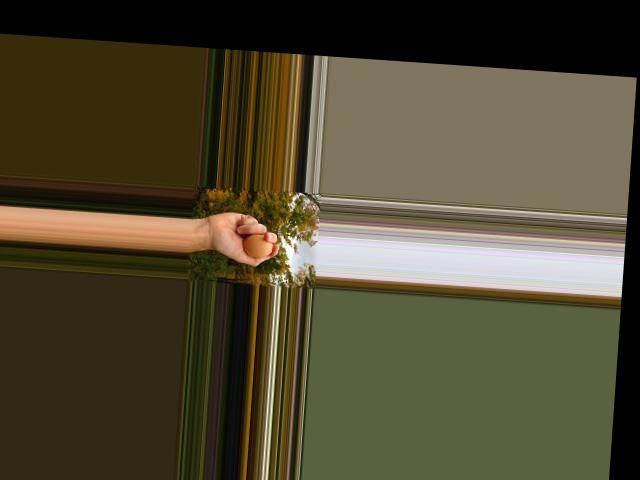egg: (242, 232, 273, 258)
